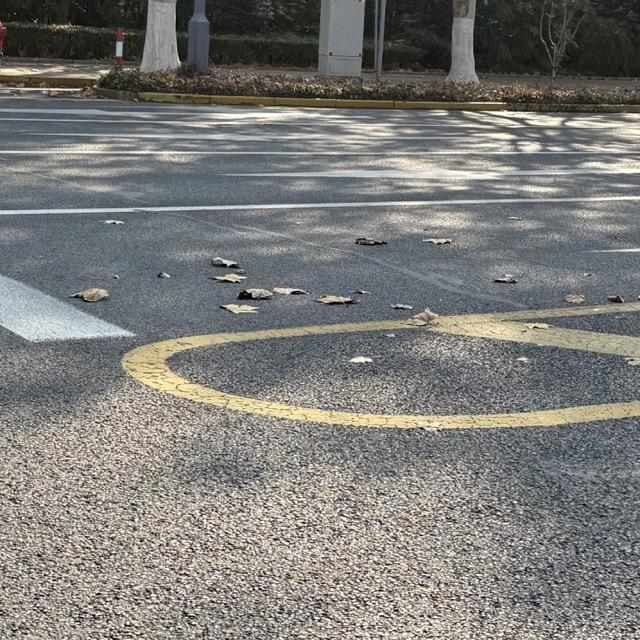curb: (98, 88, 639, 112), (0, 76, 96, 88)
